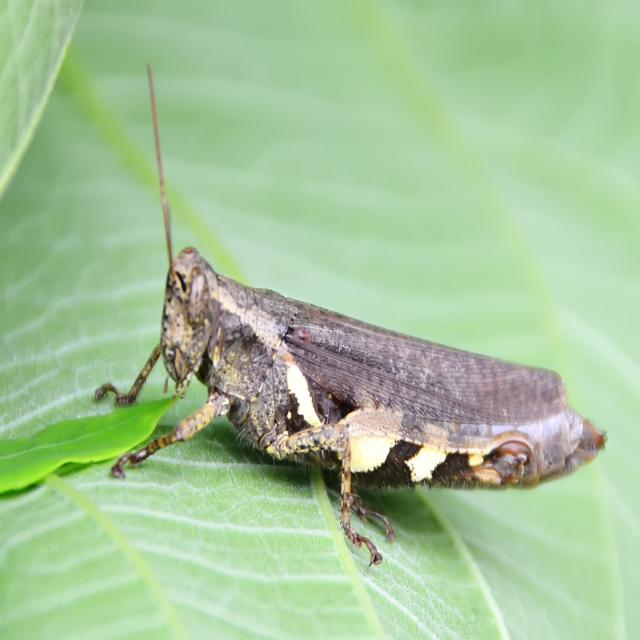ZhaMeng: (93, 215, 624, 541)
